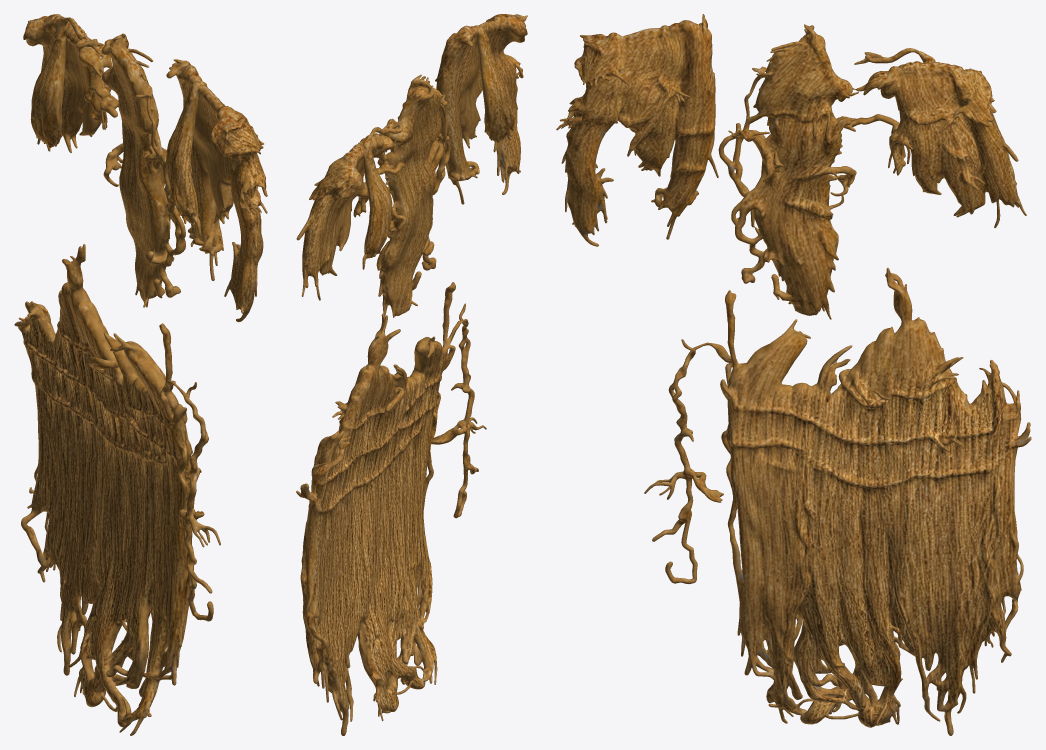
3 views of the same model, side by side, from view 1: azimuth 30°, elevation 25°; view 2: azimuth 150°, elevation 25°; view 3: azimuth 270°, elevation 25° (orthographic). The views are drawn at different scales.
Visible parts, largest first — view 1: tripo_node_ea9bd3b3-339e-4c1a-b535-0837e6480559; view 2: tripo_node_ea9bd3b3-339e-4c1a-b535-0837e6480559; view 3: tripo_node_ea9bd3b3-339e-4c1a-b535-0837e6480559.
Part boxes in pixels (x1,y1,x2,y2): tripo_node_ea9bd3b3-339e-4c1a-b535-0837e6480559: [14, 14, 267, 735]; tripo_node_ea9bd3b3-339e-4c1a-b535-0837e6480559: [296, 14, 527, 735]; tripo_node_ea9bd3b3-339e-4c1a-b535-0837e6480559: [556, 14, 1031, 735].
Size of the model in its own units: 0.1066 by 0.9999 by 0.6033.
1 material, 1 textured.
